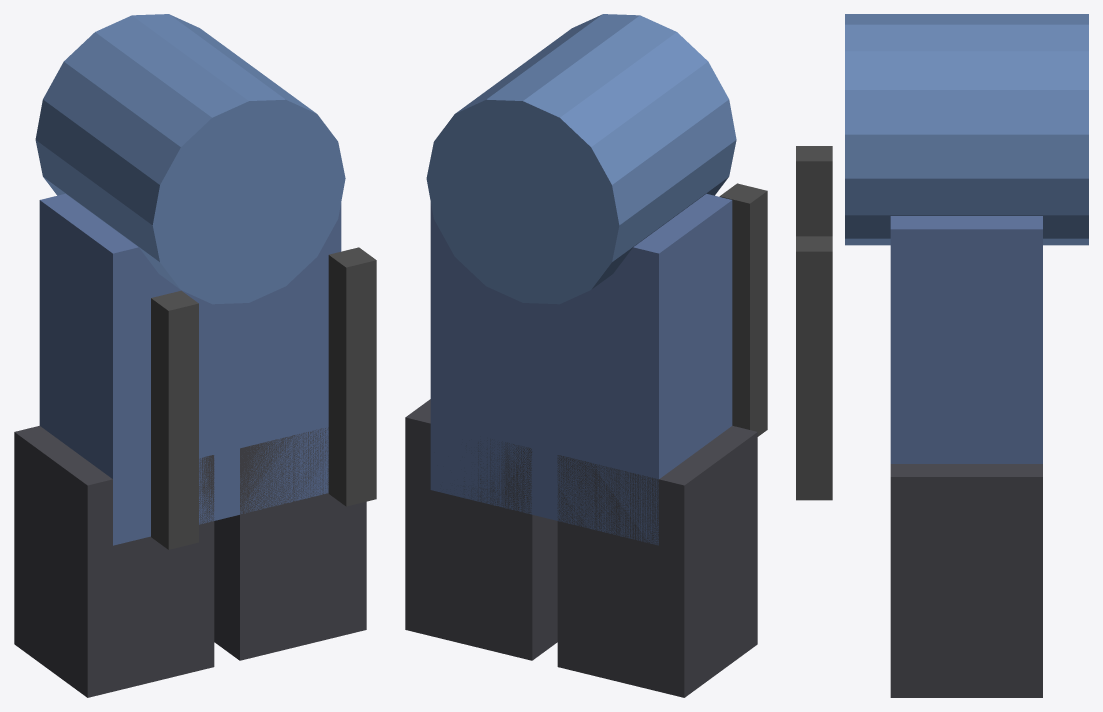
The model's file is soldier.glb.
The picture shows the model from 3 angles, left to right: view 1: azimuth 30°, elevation 25°; view 2: azimuth 150°, elevation 25°; view 3: azimuth 270°, elevation 25°; orthographic projection. The views are drawn at different scales.
Visible parts, largest first — view 1: p0, p1, p2, p3, p5, p4; view 2: p1, p0, p2, p3, p4; view 3: p0, p1, p3, p5, p4.
Boxes of the visible parts, bbox=[...] form: p0: bbox=[35, 14, 345, 304]; p1: bbox=[39, 193, 341, 545]; p2: bbox=[14, 425, 214, 697]; p3: bbox=[214, 427, 366, 660]; p5: bbox=[328, 247, 376, 506]; p4: bbox=[151, 290, 198, 549]; p1: bbox=[430, 193, 732, 545]; p0: bbox=[426, 14, 736, 304]; p2: bbox=[557, 426, 757, 697]; p3: bbox=[405, 399, 557, 660]; p4: bbox=[719, 183, 767, 436]; p0: bbox=[845, 14, 1088, 245]; p1: bbox=[890, 216, 1042, 463]; p3: bbox=[890, 464, 1042, 697]; p5: bbox=[796, 236, 832, 500]; p4: bbox=[796, 146, 832, 236].
Bounding box in the file's own units: 1.1 × 2.18 × 0.96.
